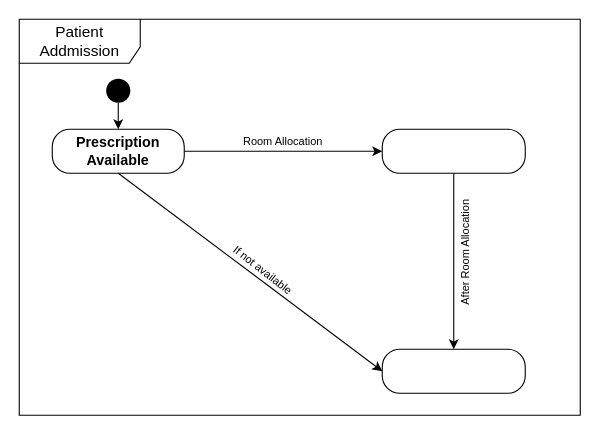
The diagram is 600 pixels wide and 435 high, and some of its shapes have lost their labels. The box of each missing label's shape, as (x1, y1, x2, y2) in pixels:
Return: (381, 348, 525, 393)
Room Allocated: (381, 128, 525, 173)
